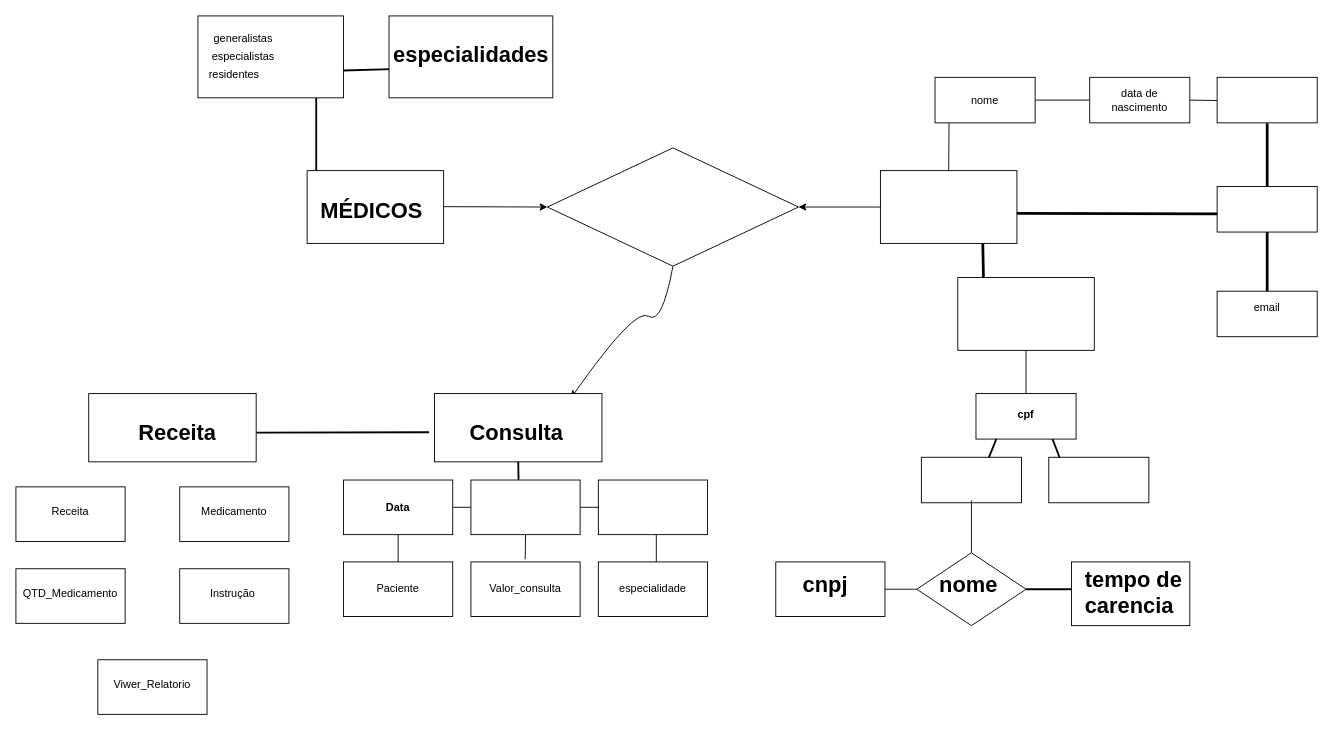
This 1333x731 diagram has some shape labels left out. Here are the shapes that lost their labels. From the top down, the centre of each, then its label:
pixel 1266 99: endereço
pixel 672 206: ATENDIMENTO
pixel 948 206: PACIENTES
pixel 1266 209: telefone
pixel 1025 313: documentos
pixel 970 479: convênio
pixel 1098 479: rg
pixel 525 507: Hora
pixel 652 507: Médico
